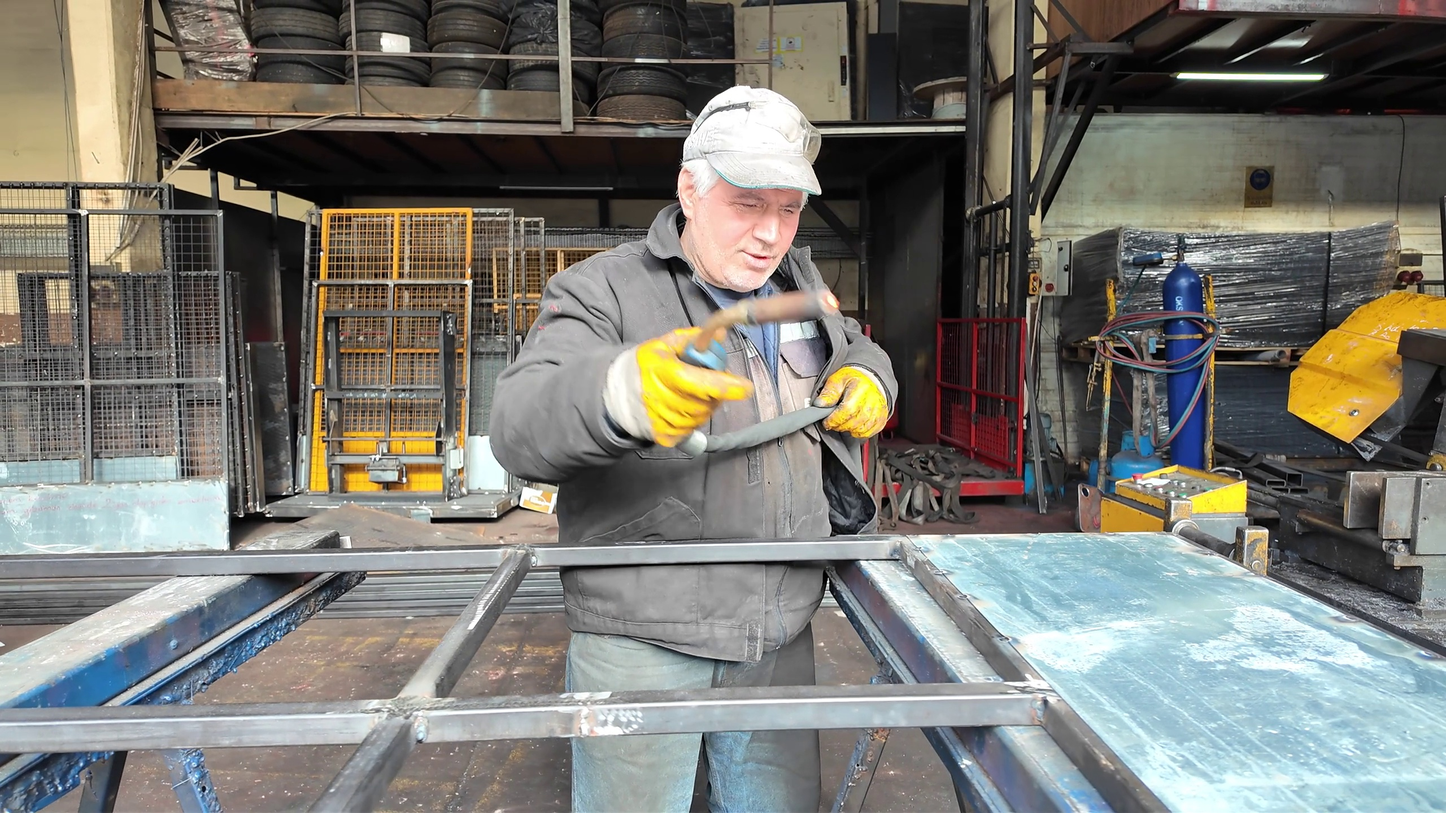person: (487, 85, 897, 813)
